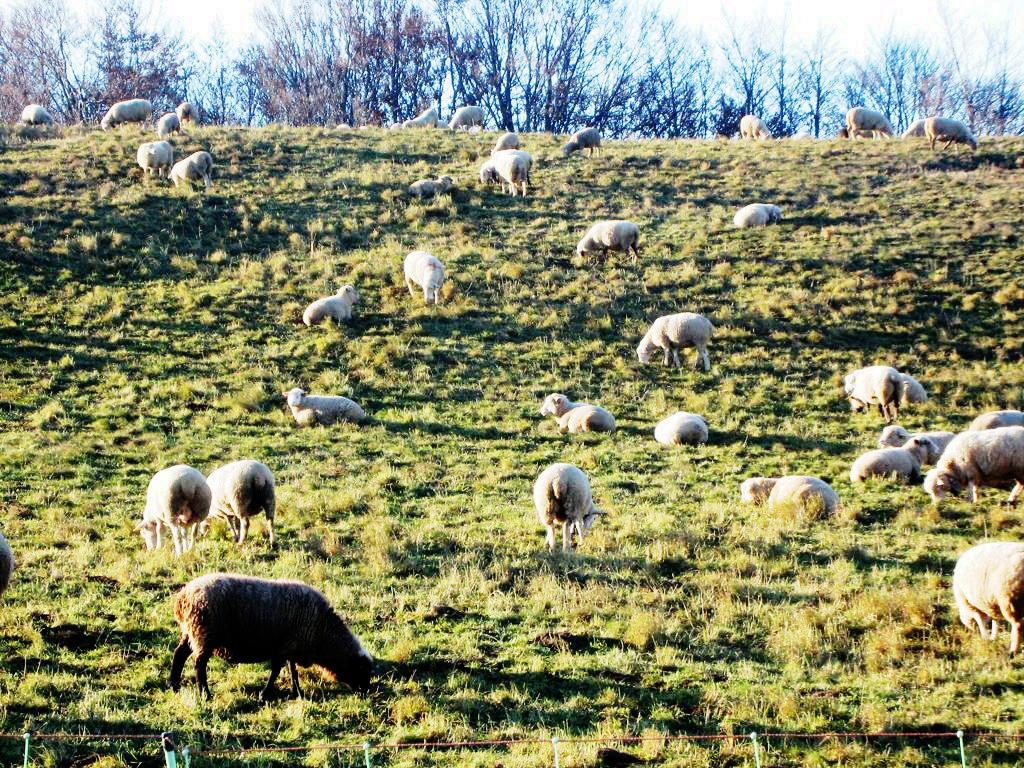Sheep: (162, 572, 384, 711), (950, 538, 1024, 653), (202, 452, 284, 552), (130, 463, 216, 557), (532, 463, 613, 554), (930, 426, 1024, 504), (844, 432, 942, 497), (539, 386, 632, 451), (867, 416, 964, 467), (843, 365, 926, 423), (642, 312, 716, 372), (292, 285, 374, 333), (282, 384, 364, 432), (766, 474, 840, 522), (574, 218, 643, 264), (402, 249, 446, 304), (488, 150, 532, 196), (654, 410, 710, 446), (100, 98, 154, 131), (924, 116, 976, 150), (169, 151, 215, 188), (845, 106, 893, 140), (136, 138, 174, 178), (732, 203, 784, 228), (406, 174, 456, 200), (560, 127, 601, 158), (968, 410, 1024, 432), (448, 104, 486, 132), (740, 478, 776, 504), (739, 115, 772, 142), (478, 160, 504, 188), (402, 109, 438, 129), (156, 110, 181, 138), (20, 104, 52, 125), (902, 119, 929, 138), (493, 132, 521, 150), (176, 102, 194, 126)
